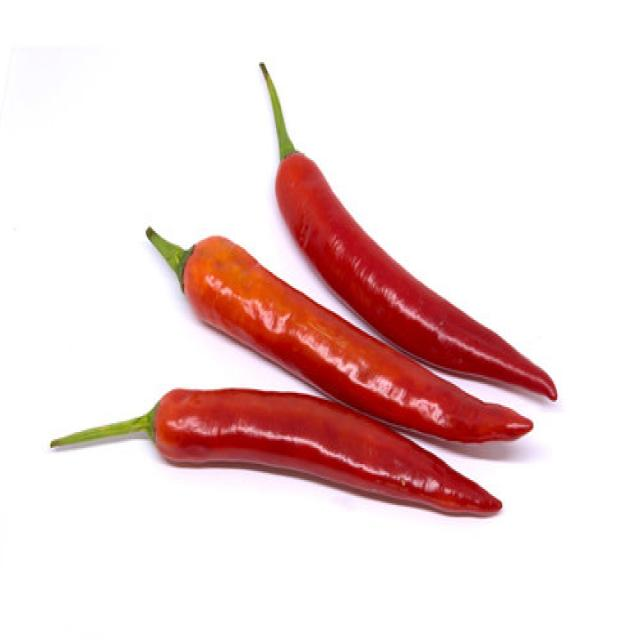Chilli: (257, 59, 558, 404), (144, 224, 533, 444), (49, 386, 504, 517)
